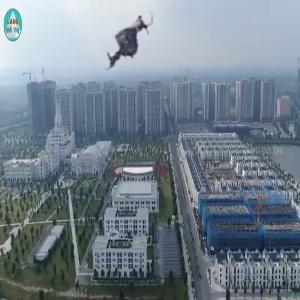drone: (91, 6, 166, 81)
